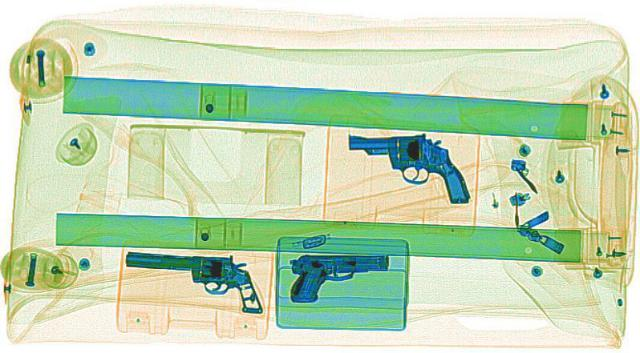Gun: (118, 251, 270, 312), (344, 132, 470, 205), (287, 252, 389, 301)
